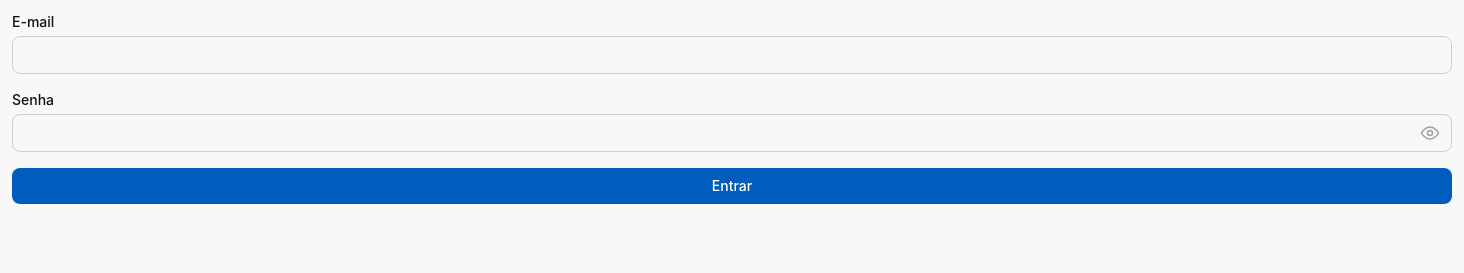
Test case: LoginForm › shows validation errors when submitted with empty fields
Click the button "Entrar": (732, 186) [12,168,1452,204]
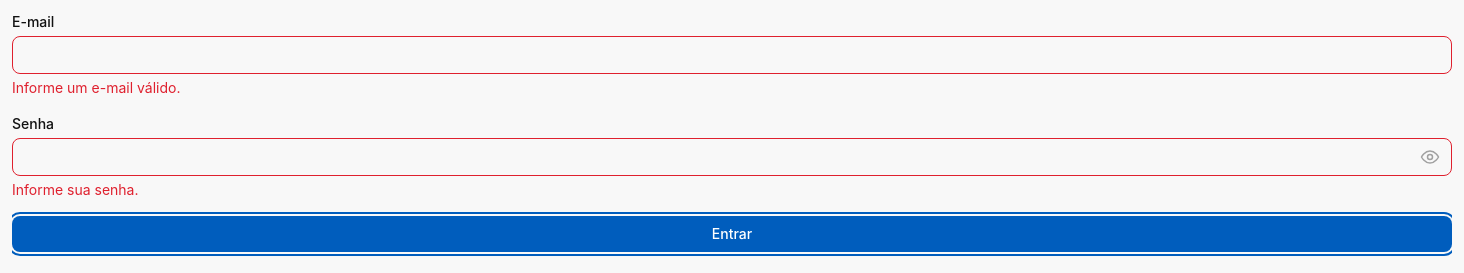
Now the text "Informe um e-mail válido." is shown, box [12,79,180,96]
Now the text "Informe sua senha." is shown, box [12,181,138,198]
